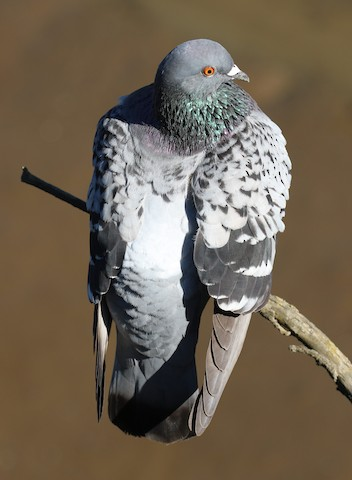pigeon: (85, 29, 296, 448)
